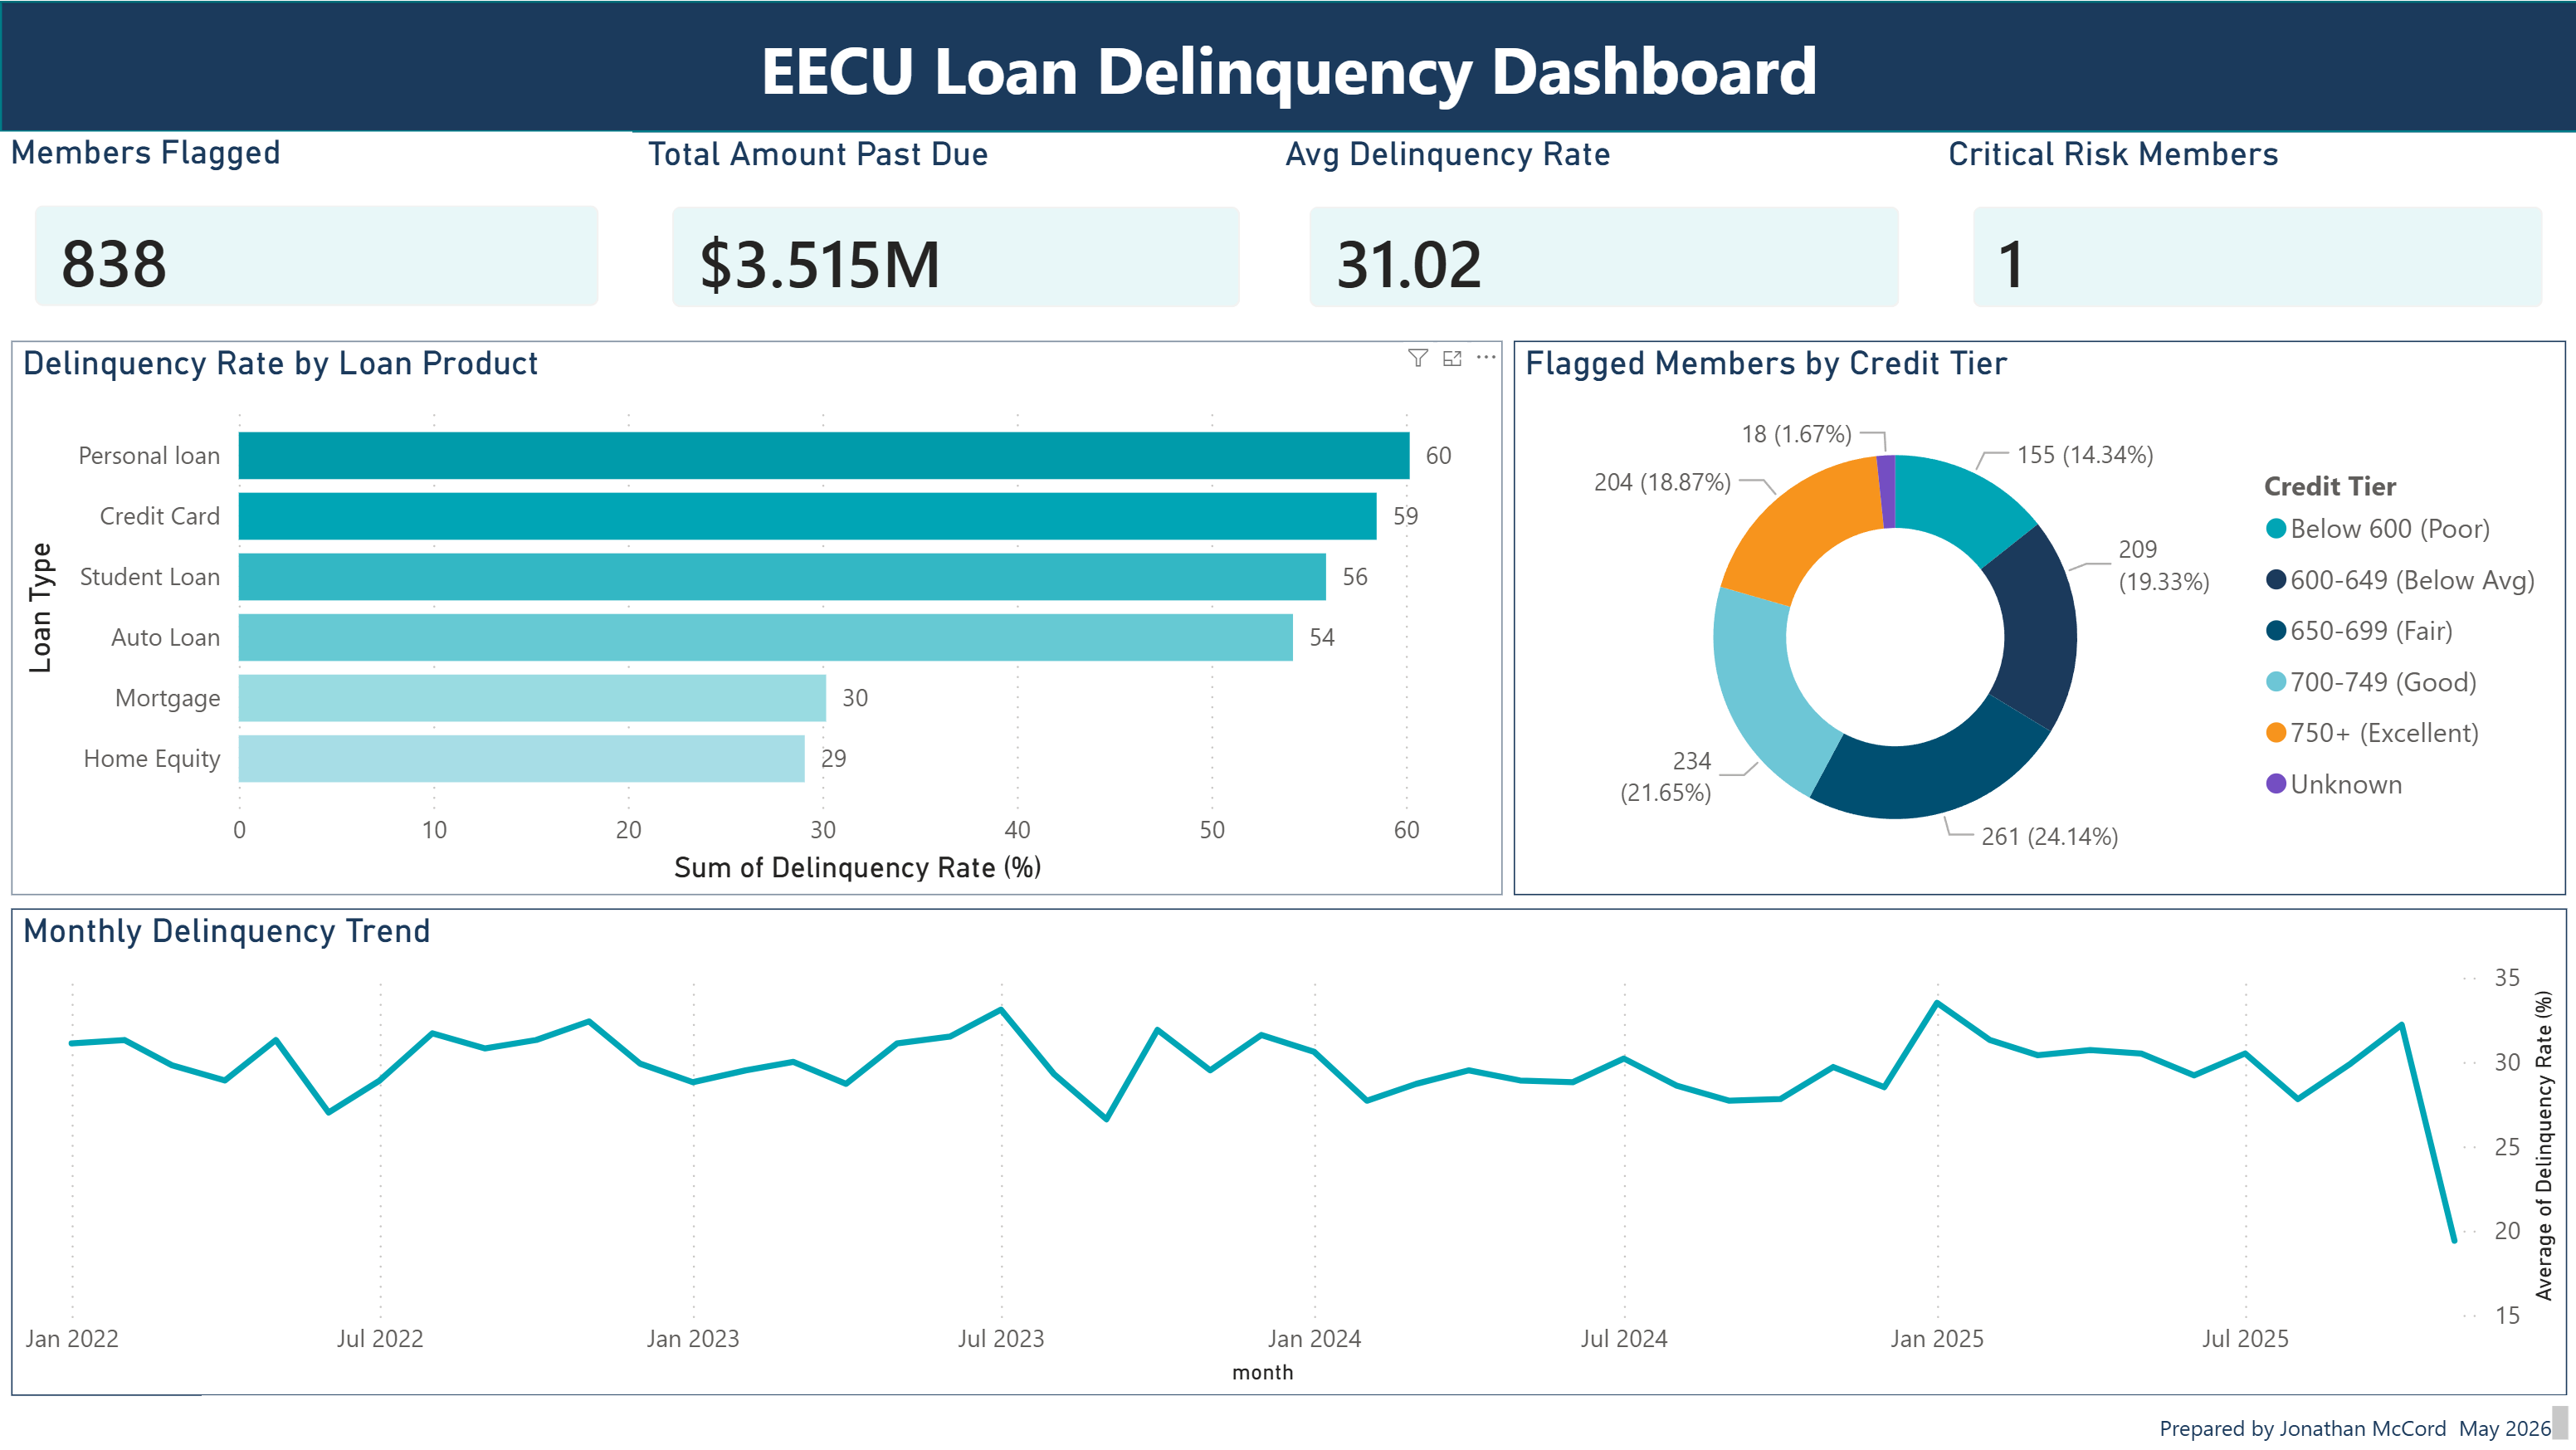

The page's visual inventory and layout, read from the dashboard file:
{"tool":"powerbi","page":{"name":"Executive Summary","canvas":[1280,720],"ordinal":0},"visuals":[{"type":"textbox","box":[288.7,0,991.6,65.5],"z":0},{"type":"shape","box":[0,0,1280.6,65.3],"z":1000},{"type":"cardVisual","title":"Members Flagged","fields":{"Data":["CountNonNull(member_delinquency_scored.member_id)"]},"box":[0,65.2,314.2,104.1],"z":2000},{"type":"cardVisual","title":"Total Amount Past Due","fields":{"Data":["Sum(member_delinquency_scored.total_amount_past_due)"]},"box":[316.5,65.5,316.5,103.9],"z":3000},{"type":"cardVisual","title":"Avg Delinquency Rate","fields":{"Data":["Avg(member_delinquency_scored.delinquency_rate)"]},"box":[633,65.5,327,103.9],"z":4000},{"type":"cardVisual","title":"Critical Risk Members","fields":{"Data":["CountNonNull(member_delinquency_scored.member_id)"]},"box":[962.6,65.5,317.8,103.9],"z":5000},{"type":"clusteredBarChart","title":"Delinquency Rate by Loan Product","fields":{"Category":["delinquency_by_loan_type.loan_type"],"Y":["Sum(delinquency_by_loan_type.delinquency_rate_pct)"]},"box":[5.4,168.9,740.5,275],"z":6000},{"type":"donutChart","title":"Flagged Members by Credit Tier","fields":{"Y":["Sum(delinquency_by_credit_tier.member_count)"],"Category":["delinquency_by_credit_tier.credit_tier"]},"box":[752,168.9,523,275],"z":7000},{"type":"lineChart","title":"Monthly Delinquency Trend","fields":{"Category":["monthly_delinquency_trend.month"],"Y2":["Avg(monthly_delinquency_trend.delinquency_rate_pct)"]},"box":[5.6,450.6,1269.4,241.9],"z":8000},{"type":"textbox","box":[100,692.5,1180,27.5],"z":9000}]}

Visuals, with their boxes in screenshot pixels (x1, y1, x2, y2), scaled from the page's 1280x720 canvas onto the 2576x1450 screenshot:
textbox: left=581, top=0, right=2575, bottom=132
shape: left=0, top=0, right=2575, bottom=131
"Members Flagged" cardVisual: left=0, top=131, right=632, bottom=341
"Total Amount Past Due" cardVisual: left=637, top=132, right=1274, bottom=341
"Avg Delinquency Rate" cardVisual: left=1274, top=132, right=1932, bottom=341
"Critical Risk Members" cardVisual: left=1937, top=132, right=2575, bottom=341
"Delinquency Rate by Loan Product" clusteredBarChart: left=11, top=340, right=1501, bottom=894
"Flagged Members by Credit Tier" donutChart: left=1514, top=340, right=2566, bottom=894
"Monthly Delinquency Trend" lineChart: left=12, top=907, right=2566, bottom=1394
textbox: left=201, top=1394, right=2575, bottom=1449
